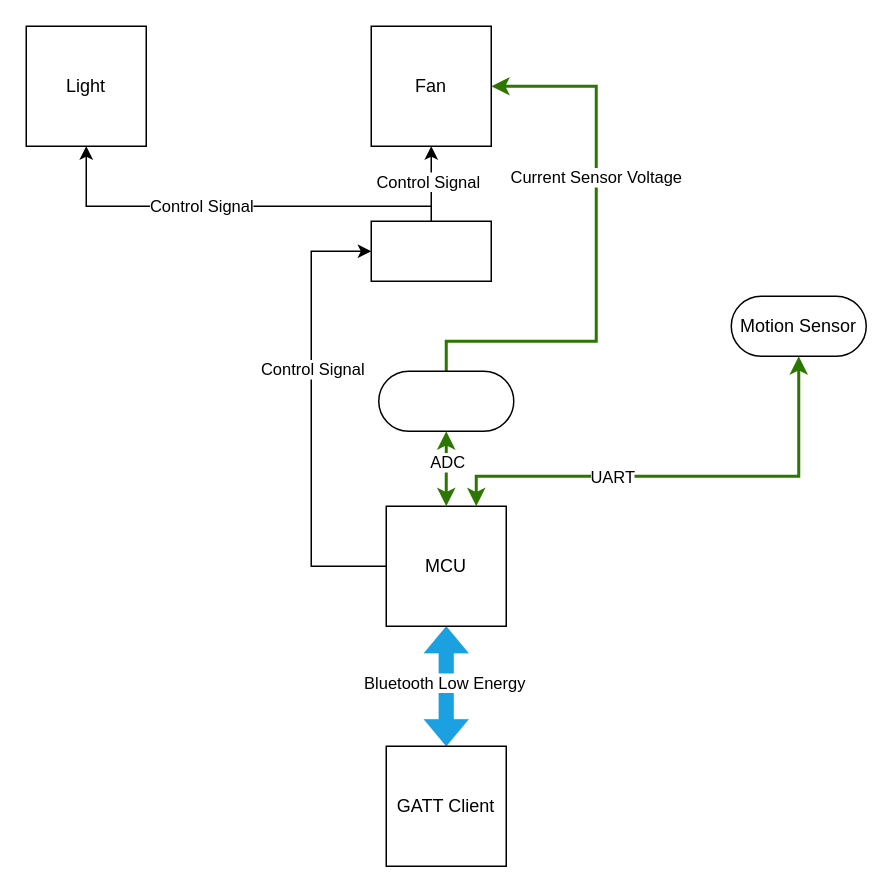
Some shapes in this 893 by 893 pixel diagram are drawn without their labels. Each missing label, with the centre of its shape:
"Current Sensor" belongs at (x=445, y=400).
"Optocoupler Relay" belongs at (x=430, y=250).
